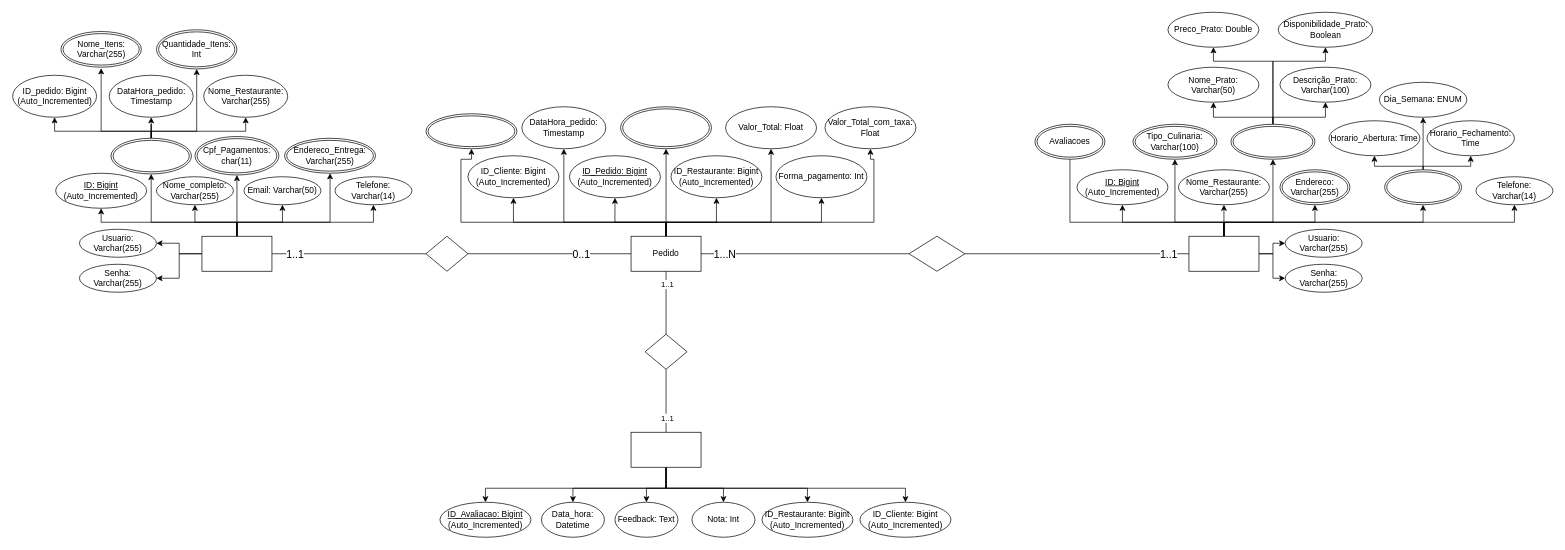
Image size: 1565x550. Some labels were removed from this diagram. The shapes that lost their labels are listed below. From the top down, each one's centre as x and y in pixels, then its label:
At point (471, 131): "Lista_Itens_Pedido".
At point (666, 127): "Status_Pedido: Varchar(20)".
At point (1272, 141): "Lista_Pratos".
At point (150, 156): "Historico_Pedidos".
At point (1423, 187): "Horario_Trabalho".
At point (236, 253): "Cliente".
At point (446, 253): "Faz".
At point (936, 253): "Preparado".
At point (1223, 253): "Restaurante".
At point (665, 351): "Gera".
At point (665, 449): "Avaliação".
